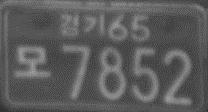2: (163, 47, 193, 106)
5: (131, 45, 159, 104), (130, 13, 151, 42)
6: (107, 13, 128, 42)
7: (60, 43, 91, 101)
8: (97, 45, 126, 102)
경기_O: (59, 13, 106, 38)
모: (13, 44, 52, 79)
